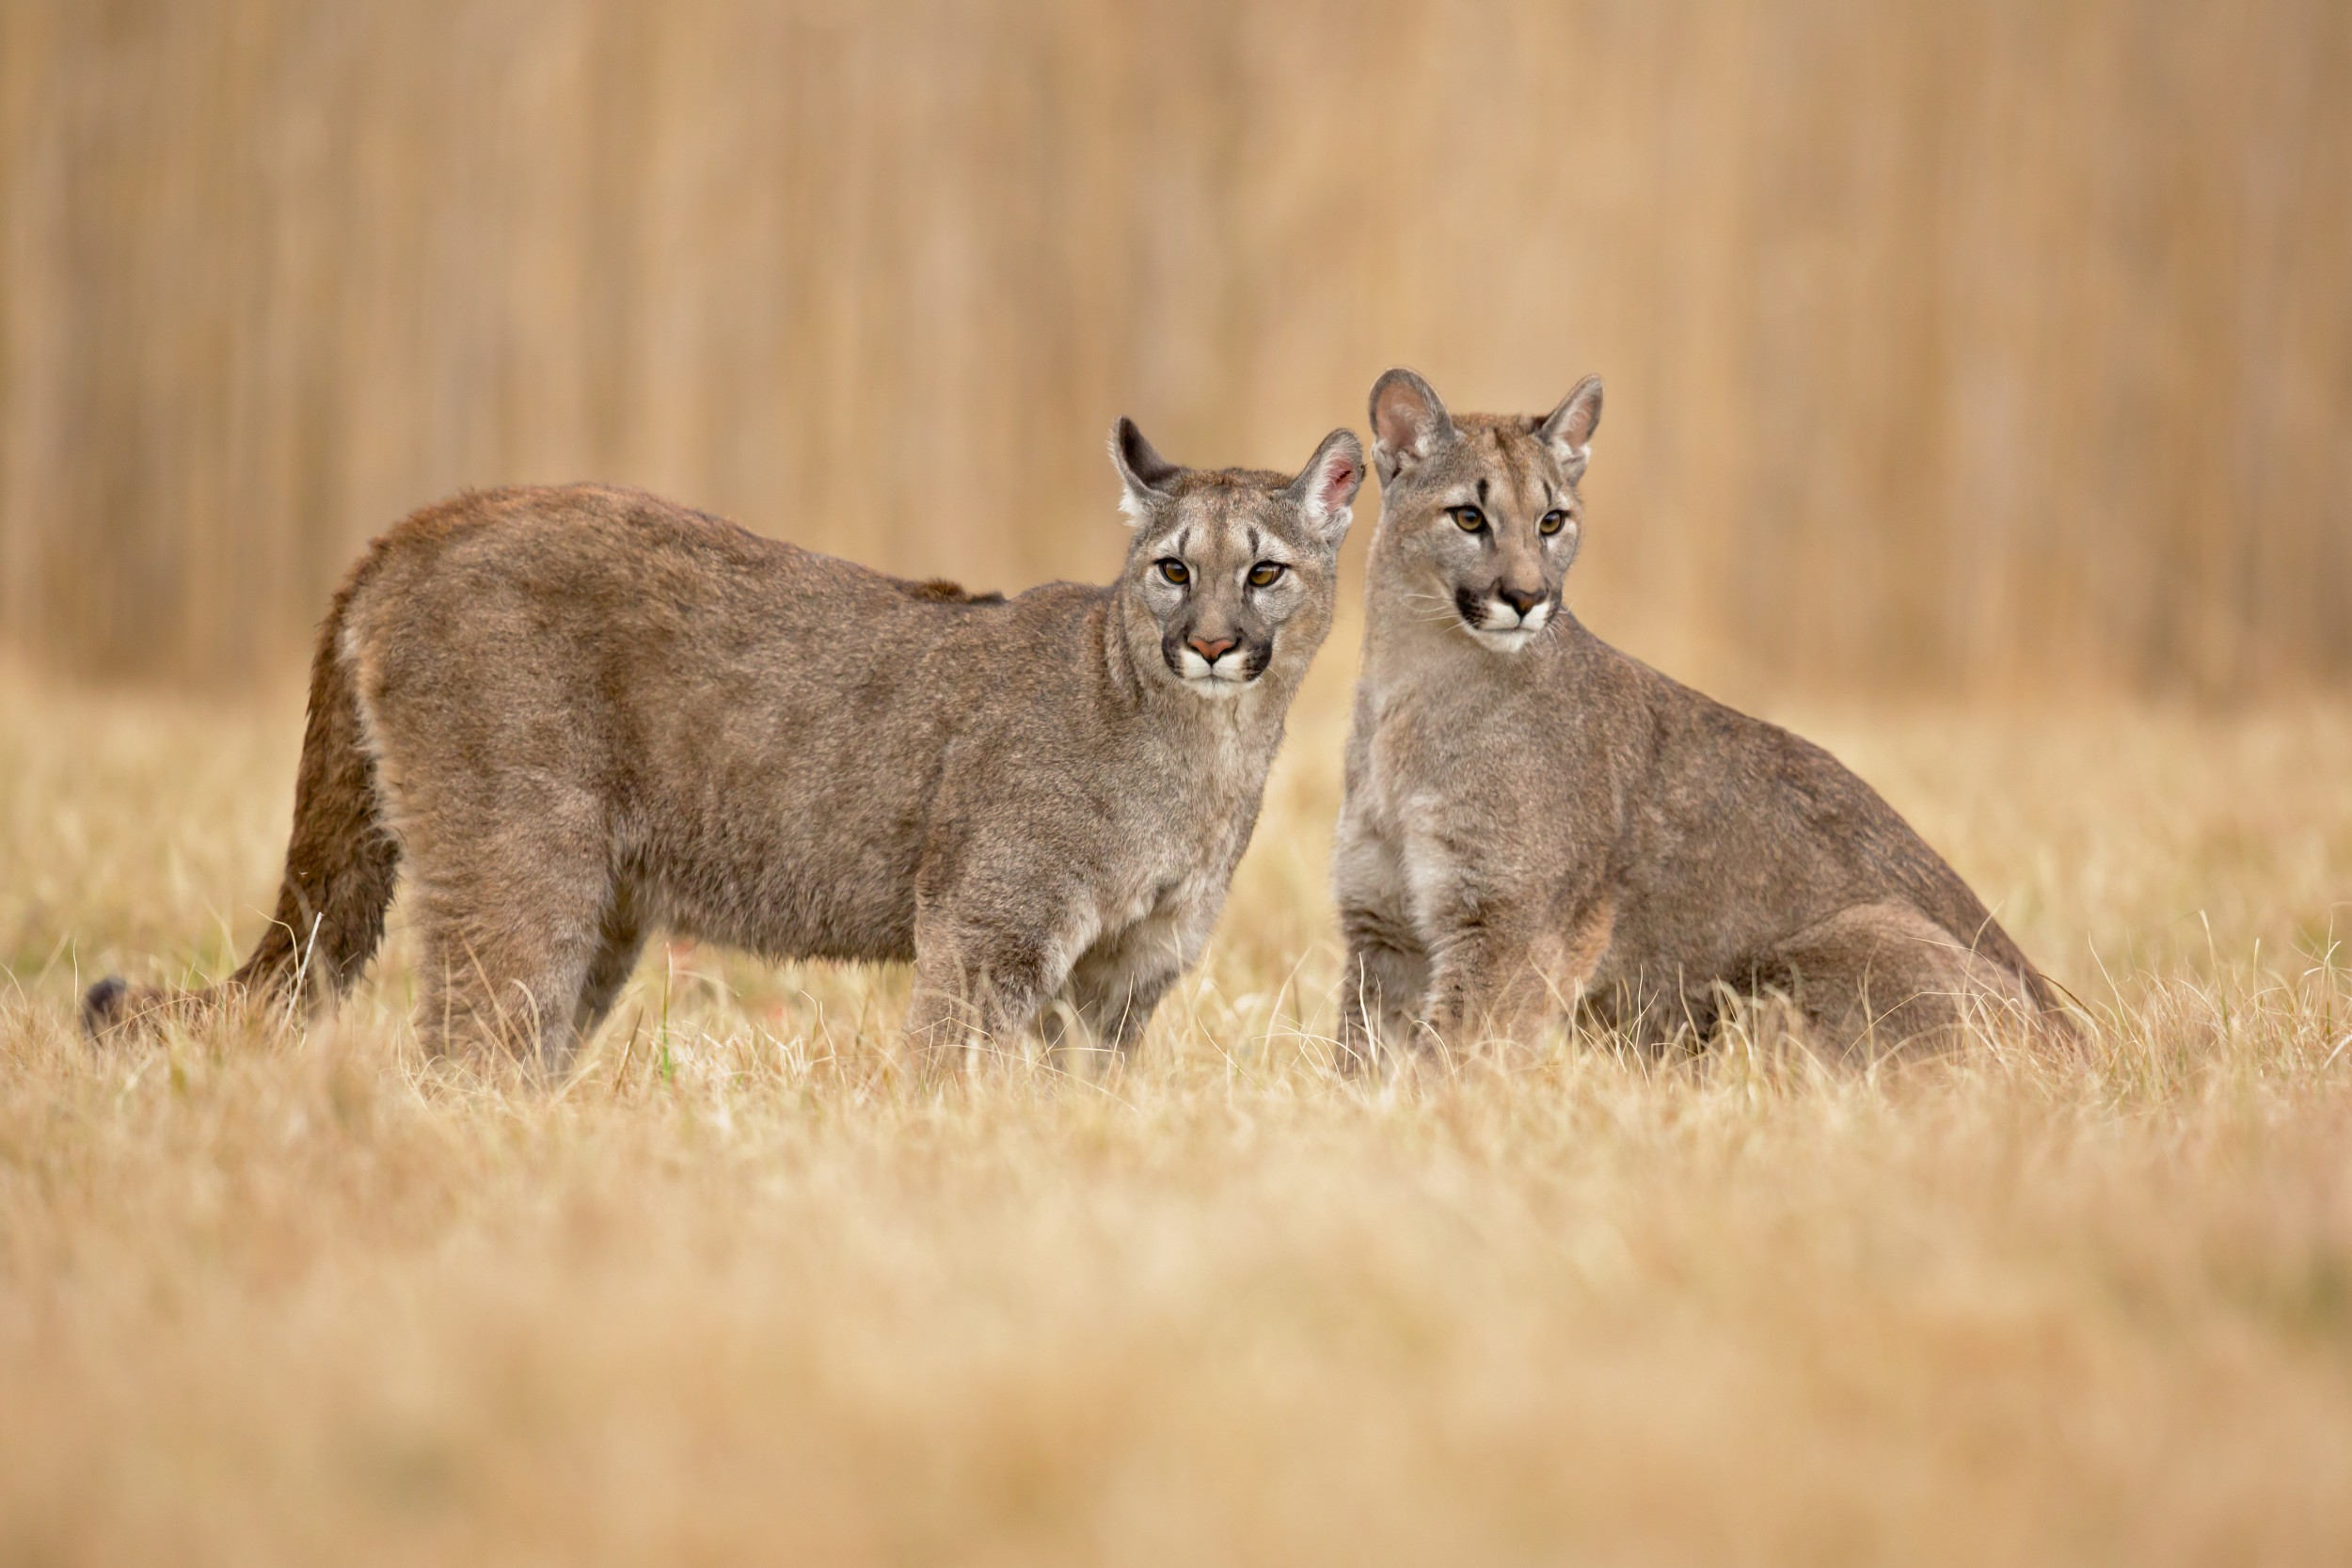OncaParda: (170, 413, 1365, 1113), (1321, 353, 2116, 1113)
